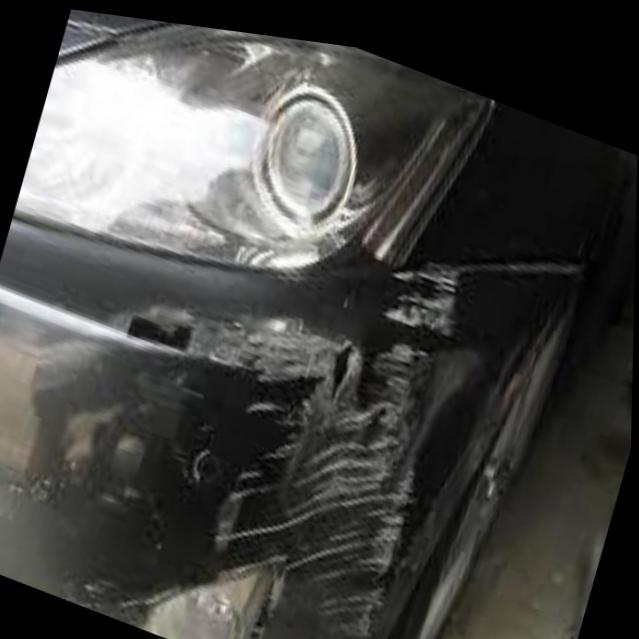crack: (118, 246, 476, 639)
